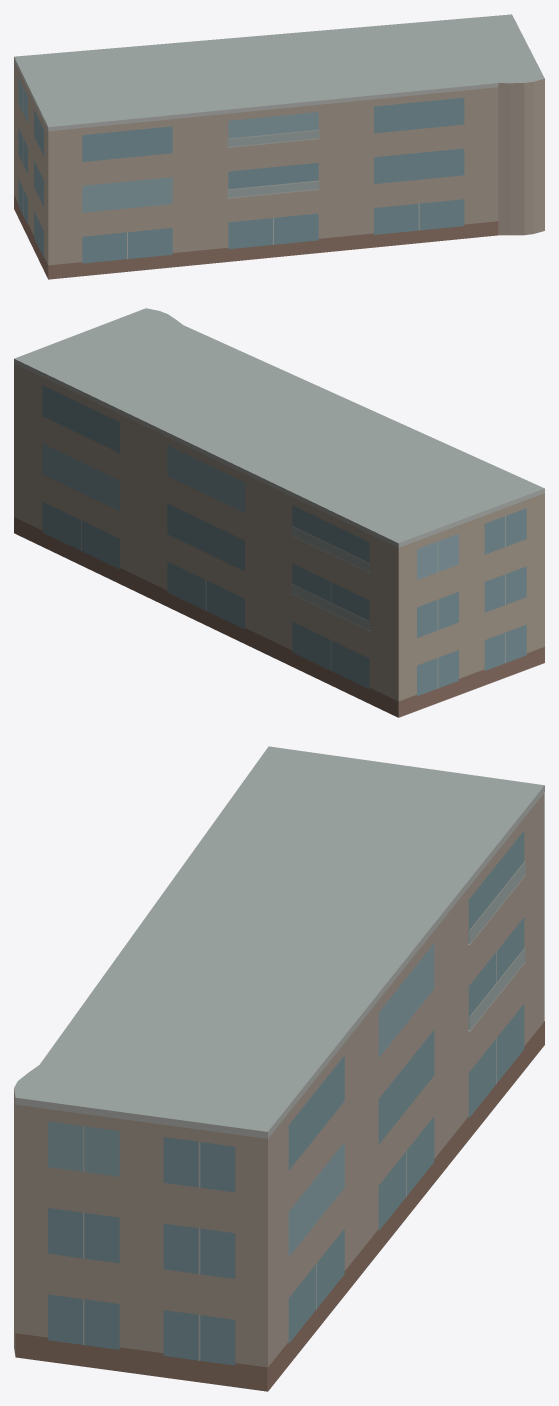
Rendered from survey-upis-32958059.glb.
3 views of the same model, one above another, from view 1: azimuth 30°, elevation 25°; view 2: azimuth 150°, elevation 25°; view 3: azimuth 270°, elevation 25° (orthographic). The views are drawn at different scales.
Visible parts, largest first — view 1: survey-upis-32958059.tmp; view 2: survey-upis-32958059.tmp; view 3: survey-upis-32958059.tmp.
Boxes of the visible parts, left/top/right/bottom form: survey-upis-32958059.tmp: left=14, top=14, right=544, bottom=279; survey-upis-32958059.tmp: left=14, top=308, right=544, bottom=717; survey-upis-32958059.tmp: left=14, top=746, right=544, bottom=1391.
Size of the model in its own units: 29.15 by 9.15 by 16.96.
